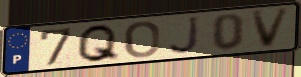0: (210, 12, 246, 53)
7: (37, 26, 75, 67)
J: (167, 15, 201, 56)
O: (123, 20, 161, 60)
Q: (75, 22, 121, 64)
V: (250, 6, 294, 51)
